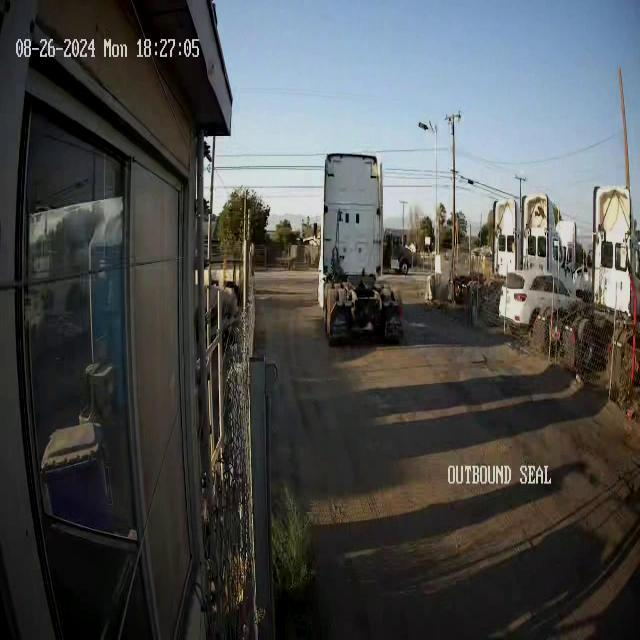BOBTAIL: (312, 151, 404, 346)
